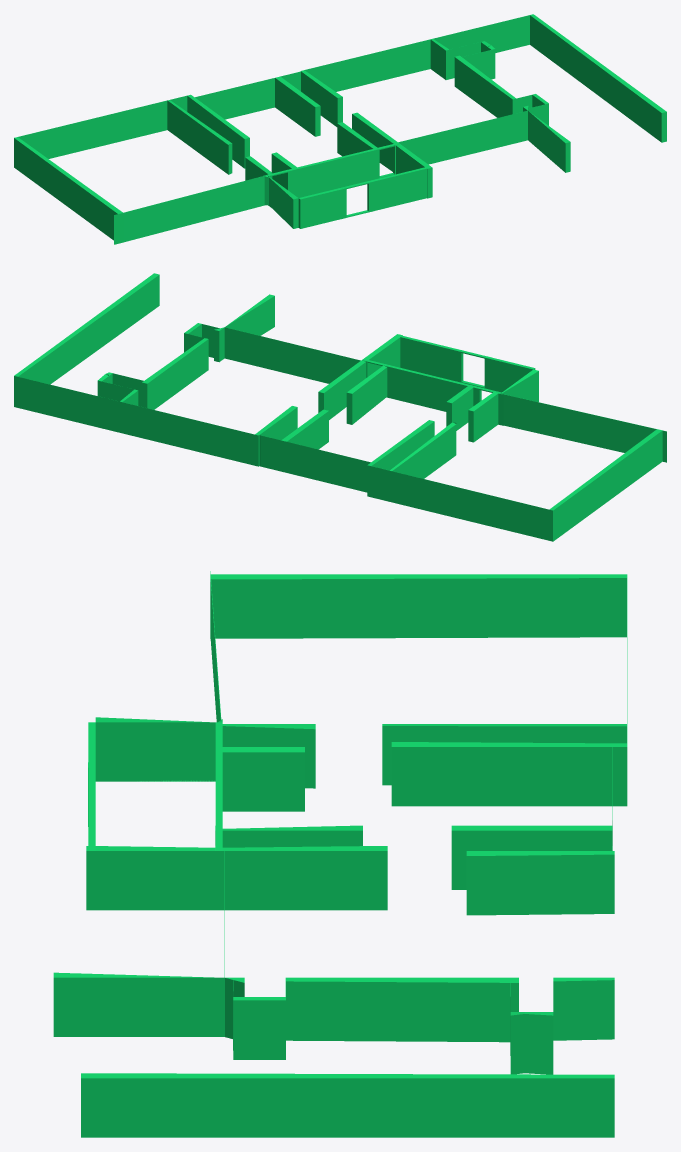
The model's file is Level1Atualizado.fbx.
The picture shows the model from 3 angles, top to bottom: view 1: azimuth 30°, elevation 25°; view 2: azimuth 150°, elevation 25°; view 3: azimuth 270°, elevation 25°; orthographic projection. The views are drawn at different scales.
Visible parts, largest first — view 1: Cube.001; view 2: Cube.001; view 3: Cube.001.
Boxes of the visible parts, bbox=[...] form: Cube.001: bbox=[14, 14, 666, 244]; Cube.001: bbox=[14, 273, 666, 541]; Cube.001: bbox=[53, 571, 627, 1137].
Bounding box in the file's own units: 33180 × 1879 × 15832.
